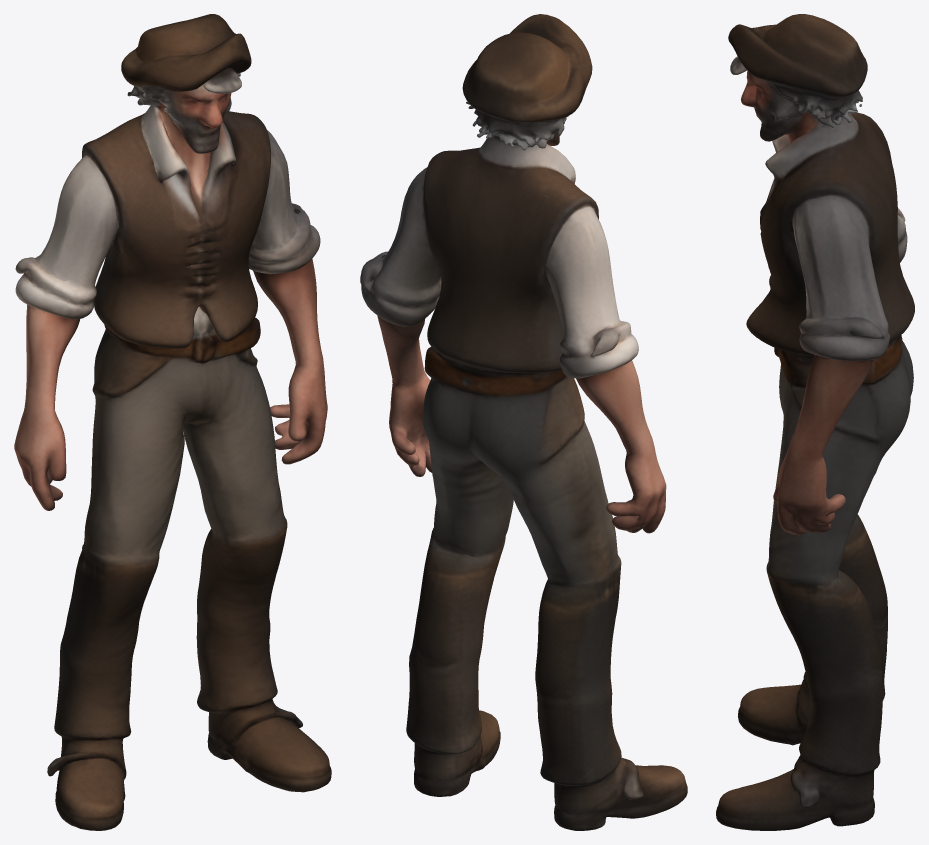
The model's file is villager.glb.
3 renders of one model, left to right at view 1: azimuth 30°, elevation 25°; view 2: azimuth 150°, elevation 25°; view 3: azimuth 270°, elevation 25°, orthographic. The views are drawn at different scales.
Parts seen in each view (by area): view 1: geometry_0; view 2: geometry_0; view 3: geometry_0.
Part boxes in pixels (x1,y1,x2,y2): geometry_0: (14,14,331,830); geometry_0: (360,14,687,830); geometry_0: (716,14,914,830).
Size of the model in its own units: 0.4082 by 1 by 0.2367.
1 material, 1 textured.
